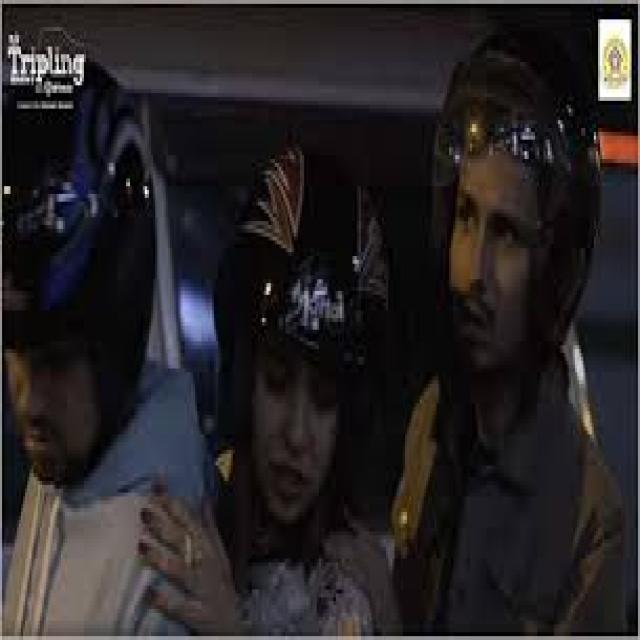Triple_riding: (4, 31, 640, 640)
with_helmet: (426, 41, 597, 437), (230, 111, 392, 485), (15, 98, 167, 440)
